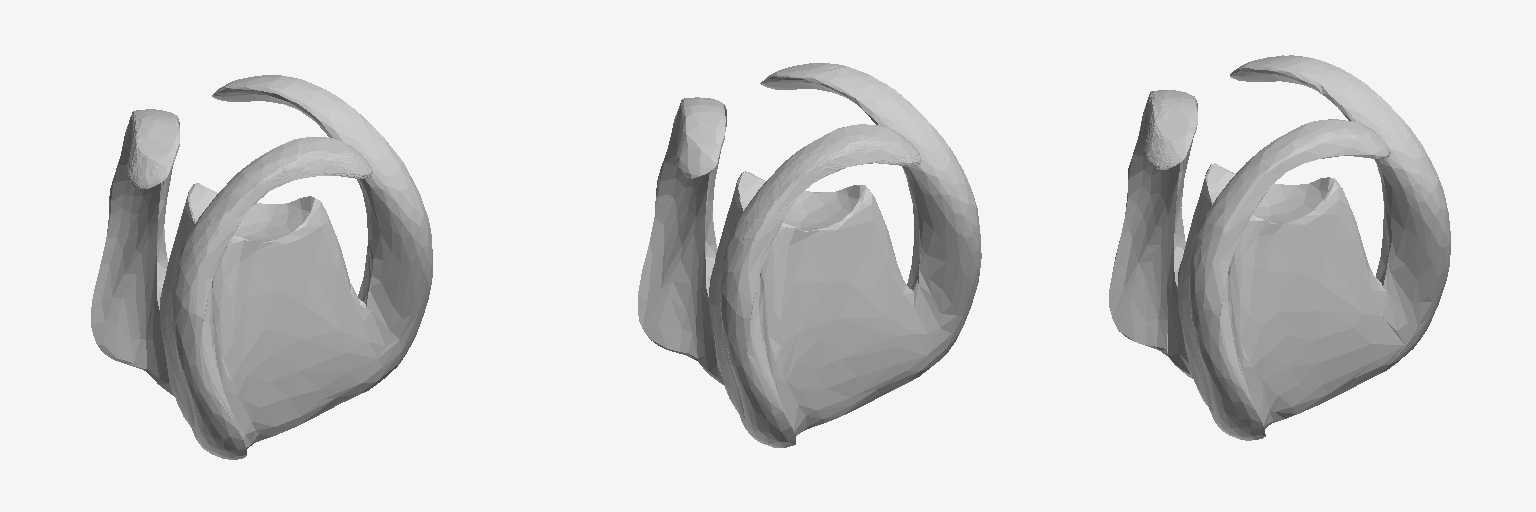
Rendered from move-3.obj.
The picture shows the model from 3 angles: view 1: azimuth 30°, elevation 25°; view 2: azimuth 150°, elevation 25°; view 3: azimuth 270°, elevation 25°; orthographic projection.
Visible parts, largest first — view 1: Quad_Sphere; view 2: Quad_Sphere; view 3: Quad_Sphere.
Part boxes in pixels (x1,y1,x2,y2): Quad_Sphere: (91,75,432,459); Quad_Sphere: (638,63,981,447); Quad_Sphere: (1109,55,1450,440).
Size of the model in its own units: 5.56 by 5.5 by 5.69.